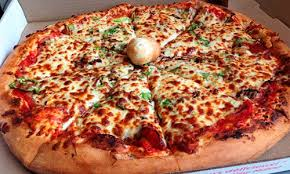pizza: (5, 5, 290, 168)
